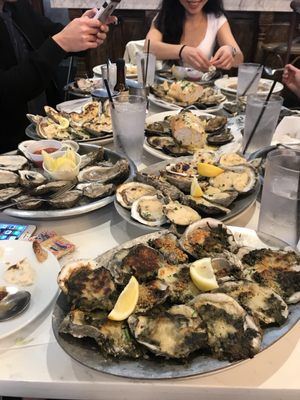pizza: (256, 146, 300, 250), (110, 93, 148, 167), (237, 63, 263, 97)
